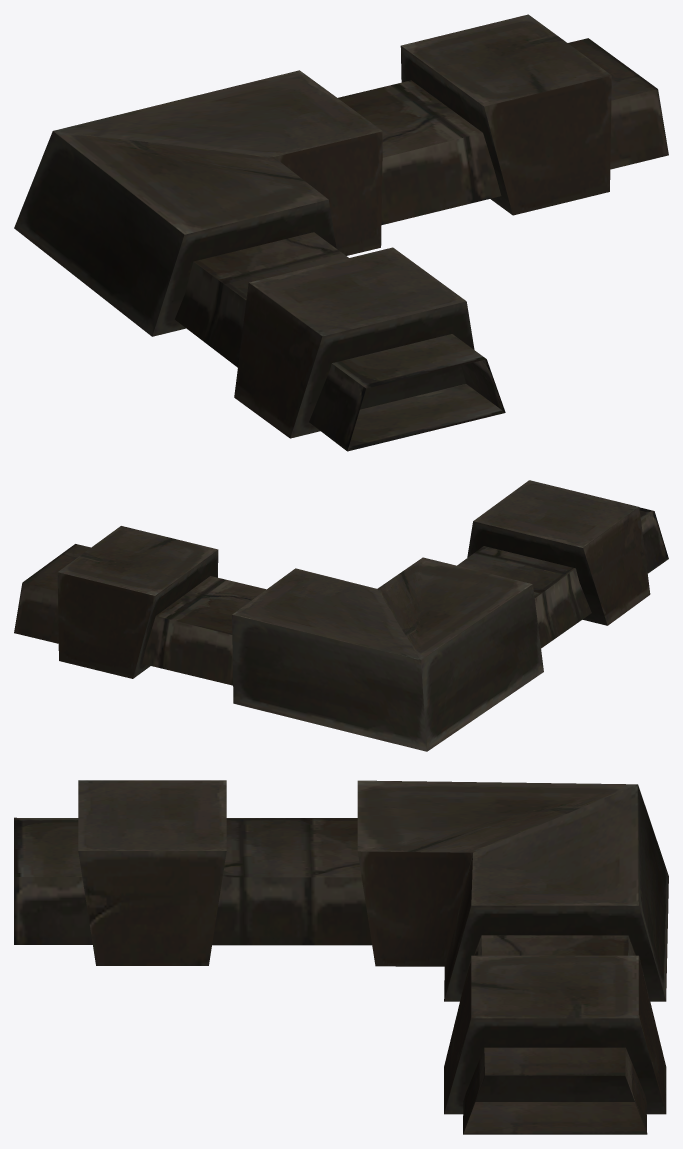
File: fortress_cap_concave_01.fbx
3 renders of one model, top to bottom at view 1: azimuth 30°, elevation 25°; view 2: azimuth 150°, elevation 25°; view 3: azimuth 270°, elevation 25°, orthographic. The views are drawn at different scales.
Visible parts, largest first — view 1: fortress_tileset/Cap_01_mat; view 2: fortress_tileset/Cap_01_mat; view 3: fortress_tileset/Cap_01_mat.
Part boxes in pixels (<box>): fortress_tileset/Cap_01_mat: <box>14,14,668,451</box>; fortress_tileset/Cap_01_mat: <box>14,480,668,751</box>; fortress_tileset/Cap_01_mat: <box>14,780,668,1134</box>.
Size of the model in its own units: 4.82 by 0.8442 by 4.84.
